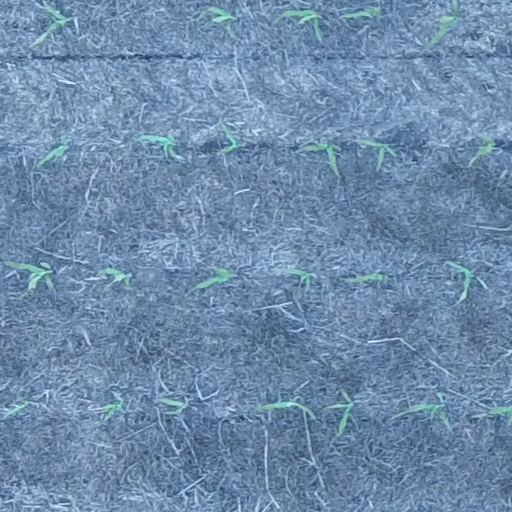planta: (31, 1, 68, 46), (5, 261, 55, 292), (274, 8, 323, 39), (255, 395, 316, 418), (357, 137, 397, 168), (300, 141, 340, 171), (137, 130, 178, 158), (406, 402, 451, 426), (448, 259, 475, 298), (332, 386, 353, 434), (206, 5, 239, 35), (194, 265, 235, 288), (37, 138, 67, 165), (101, 267, 132, 289), (219, 123, 241, 153), (474, 132, 497, 157), (341, 5, 381, 19), (286, 267, 313, 286), (158, 396, 186, 414), (99, 398, 124, 417), (345, 272, 388, 283)
